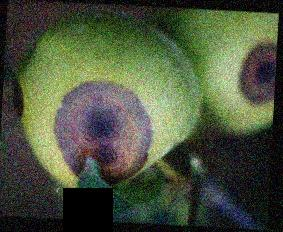rotten apple: (9, 11, 197, 190), (163, 10, 275, 133)
